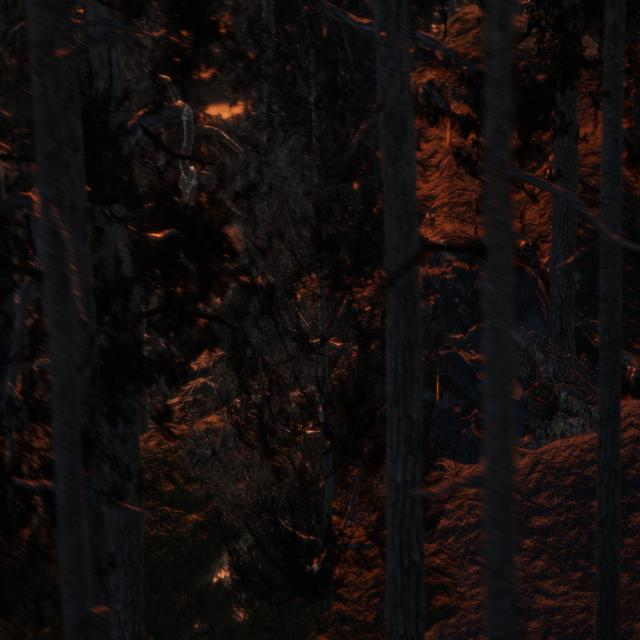Human: (421, 313, 446, 464)
